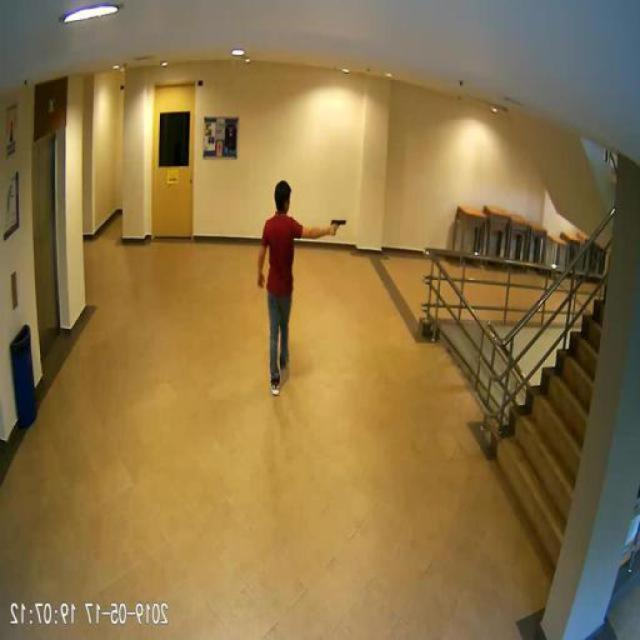pistol: (331, 216, 348, 236)
